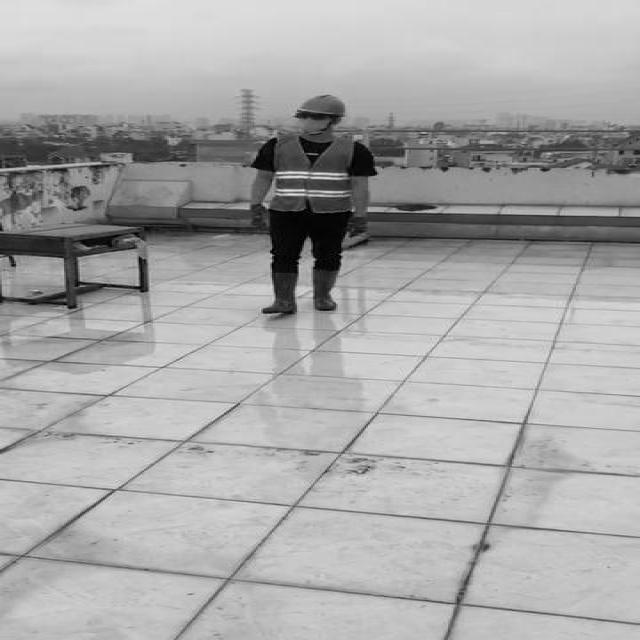boots: (263, 271, 301, 314), (313, 269, 341, 310)
face_mask: (293, 108, 335, 134)
glasses: (288, 110, 336, 122)
hand_glove: (343, 216, 368, 238), (249, 204, 268, 225)
head_helmet: (296, 93, 349, 118)
person: (240, 92, 384, 321)
vest: (268, 136, 354, 213)
